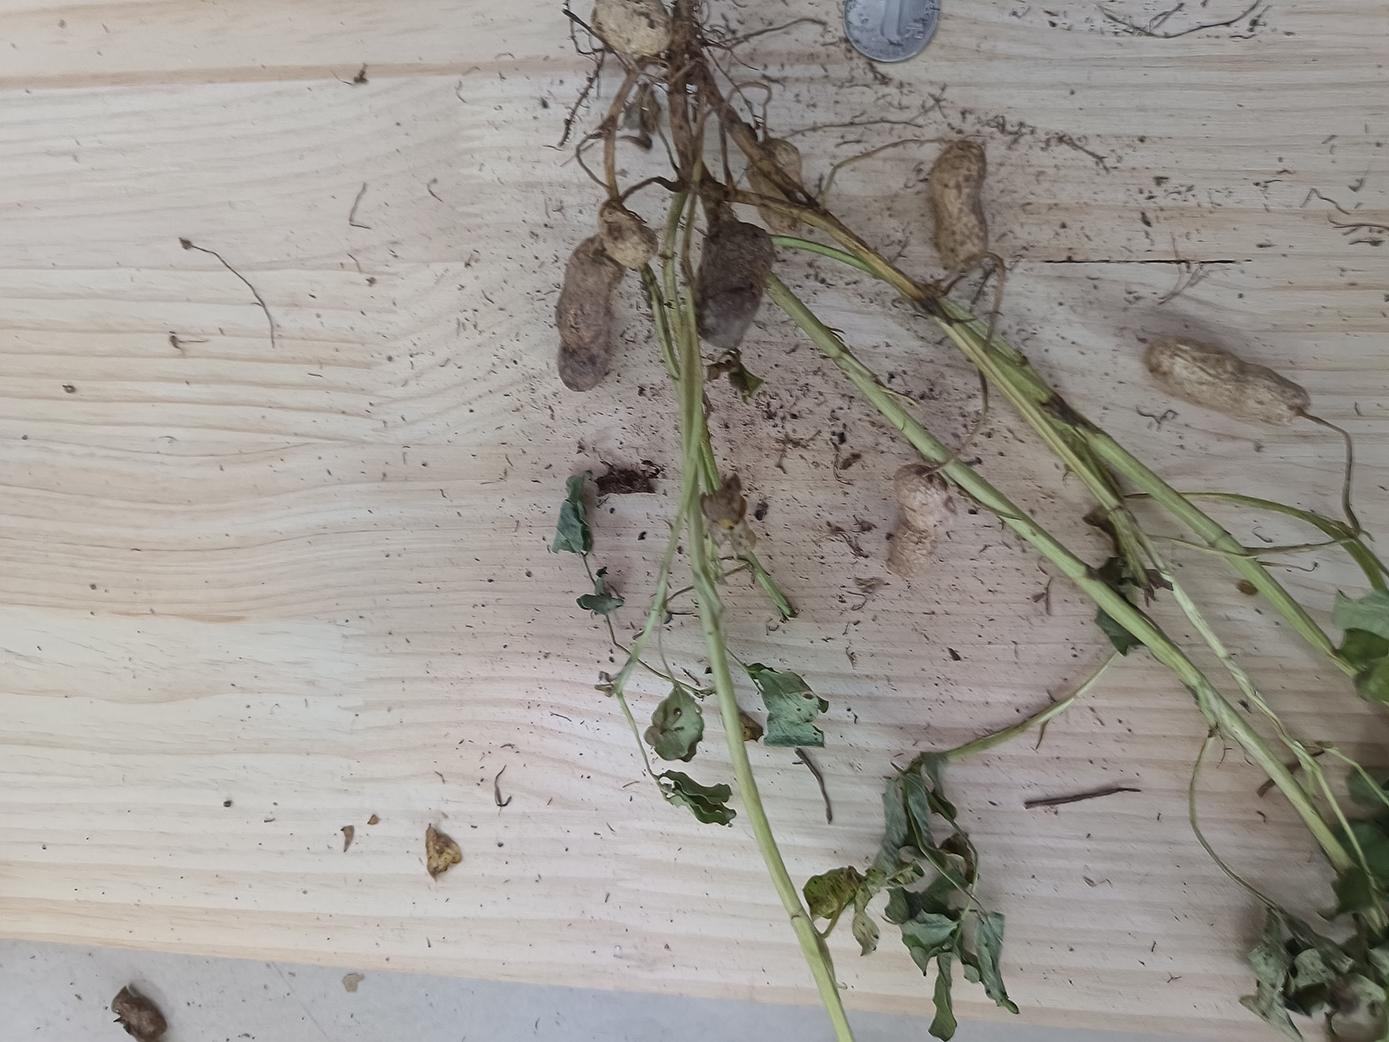h: (1145, 337, 1311, 429), (886, 467, 956, 584), (930, 141, 989, 273), (750, 137, 805, 232), (592, 1, 673, 59), (598, 202, 657, 269)
l: (691, 223, 774, 349), (558, 238, 621, 390)
